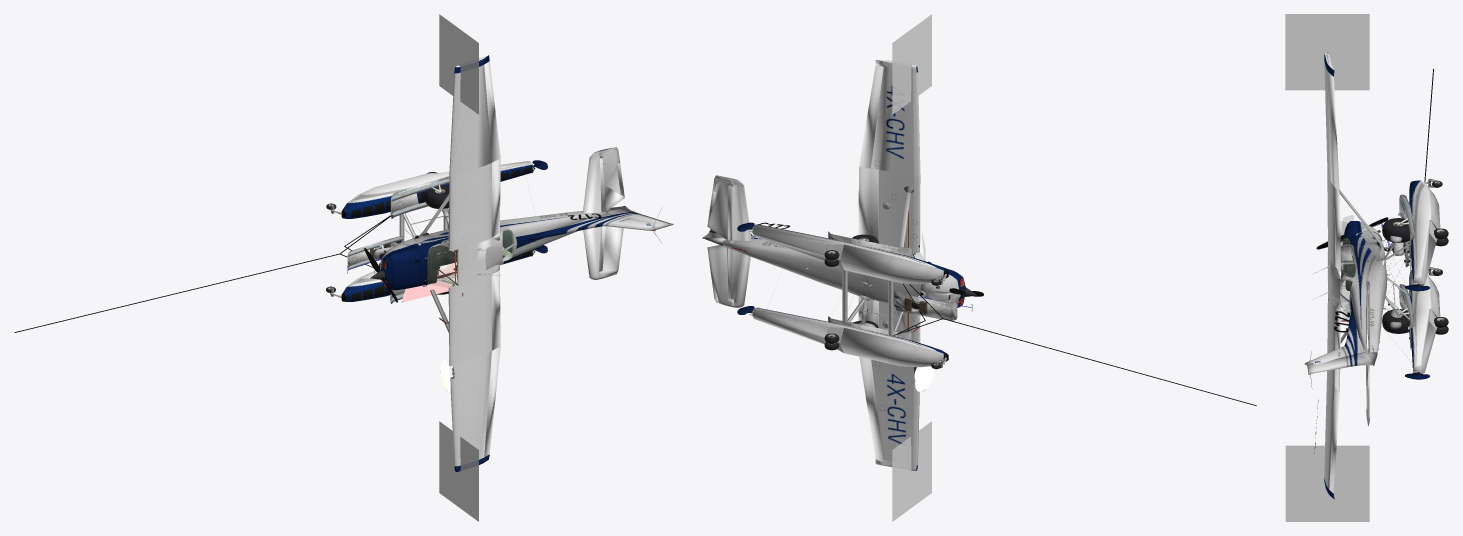
3 views of the same model, side by side, from view 1: azimuth 30°, elevation 25°; view 2: azimuth 150°, elevation 25°; view 3: azimuth 270°, elevation 25° (orthographic). The views are drawn at different scales.
Visible parts, largest first — view 1: wing_center, strobe_light (×2), fuselage, wing_left, wing_right, R-Float, hstab, wing_leading_edge_center, glas, flaps, fuselage_cowling_top, vstab.001 (+7 smaller); view 2: strobe_light (×2), fuselage, L-Float, wing_left, wing_right, R-Float, wing_center, hstab, flaps, R-FloatC, rightaileron, leftaileron (+6 smaller); view 3: strobe_light (×2), fuselage, R-Float, L-Float, wing_center, wing_right, flaps, vstab.001, wing_left, rudder, rightaileron, leftaileron (+10 smaller).
Boxes of the visible parts, x1=… form: wing_center: x1=458, y1=163, x2=499, y2=361; strobe_light (×2): x1=439, y1=14, x2=478, y2=521; fuselage: x1=380, y1=194, x2=606, y2=332; wing_left: x1=454, y1=351, x2=491, y2=471; wing_right: x1=454, y1=55, x2=491, y2=173; R-Float: x1=341, y1=161, x2=534, y2=218; hstab: x1=583, y1=151, x2=606, y2=279; wing_leading_edge_center: x1=448, y1=174, x2=458, y2=363; glas: x1=428, y1=229, x2=513, y2=287; flaps: x1=491, y1=158, x2=500, y2=350; fuselage_cowling_top: x1=386, y1=246, x2=422, y2=290; vstab.001: x1=527, y1=212, x2=657, y2=240; strobe_light (×2): x1=892, y1=14, x2=931, y2=521; fuselage: x1=722, y1=186, x2=965, y2=332; L-Float: x1=749, y1=307, x2=948, y2=367; wing_left: x1=871, y1=359, x2=917, y2=470; wing_right: x1=871, y1=60, x2=917, y2=176; R-Float: x1=749, y1=224, x2=948, y2=277; wing_center: x1=878, y1=170, x2=913, y2=341; hstab: x1=727, y1=179, x2=751, y2=307; flaps: x1=858, y1=166, x2=878, y2=327; R-FloatC: x1=750, y1=230, x2=948, y2=284; rightaileron: x1=859, y1=65, x2=883, y2=168; leftaileron: x1=859, y1=357, x2=883, y2=459; strobe_light (×2): x1=1285, y1=14, x2=1369, y2=521; fuselage: x1=1332, y1=189, x2=1386, y2=353; R-Float: x1=1409, y1=180, x2=1440, y2=284; L-Float: x1=1409, y1=270, x2=1440, y2=373; wing_center: x1=1327, y1=169, x2=1341, y2=385; wing_right: x1=1324, y1=53, x2=1334, y2=185; flaps: x1=1334, y1=187, x2=1341, y2=391; vstab.001: x1=1306, y1=309, x2=1366, y2=365; wing_left: x1=1324, y1=371, x2=1334, y2=499; rudder: x1=1307, y1=352, x2=1377, y2=373; rightaileron: x1=1329, y1=73, x2=1339, y2=192; leftaileron: x1=1329, y1=386, x2=1339, y2=493.
Size of what is drawn, in the model's own units: 17.47 by 13.32 by 3.87.
Materials: 164 (153 with a texture image).
